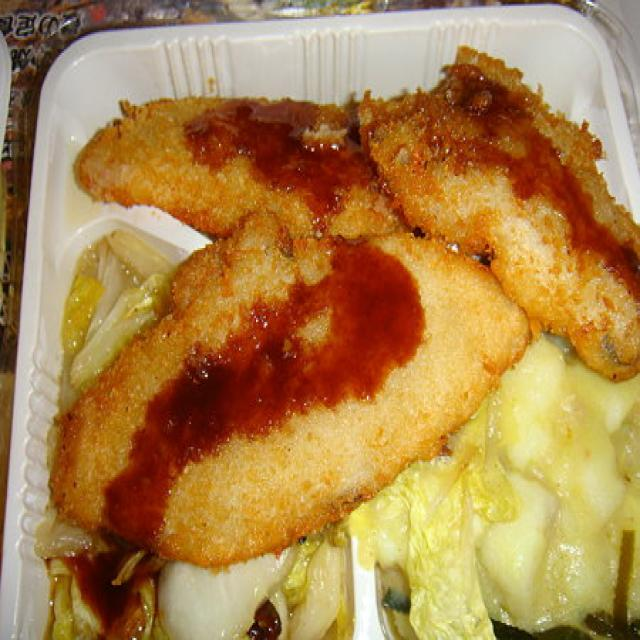炸货点心: (0, 0, 640, 593)
熟制海鲜: (0, 0, 640, 593)
